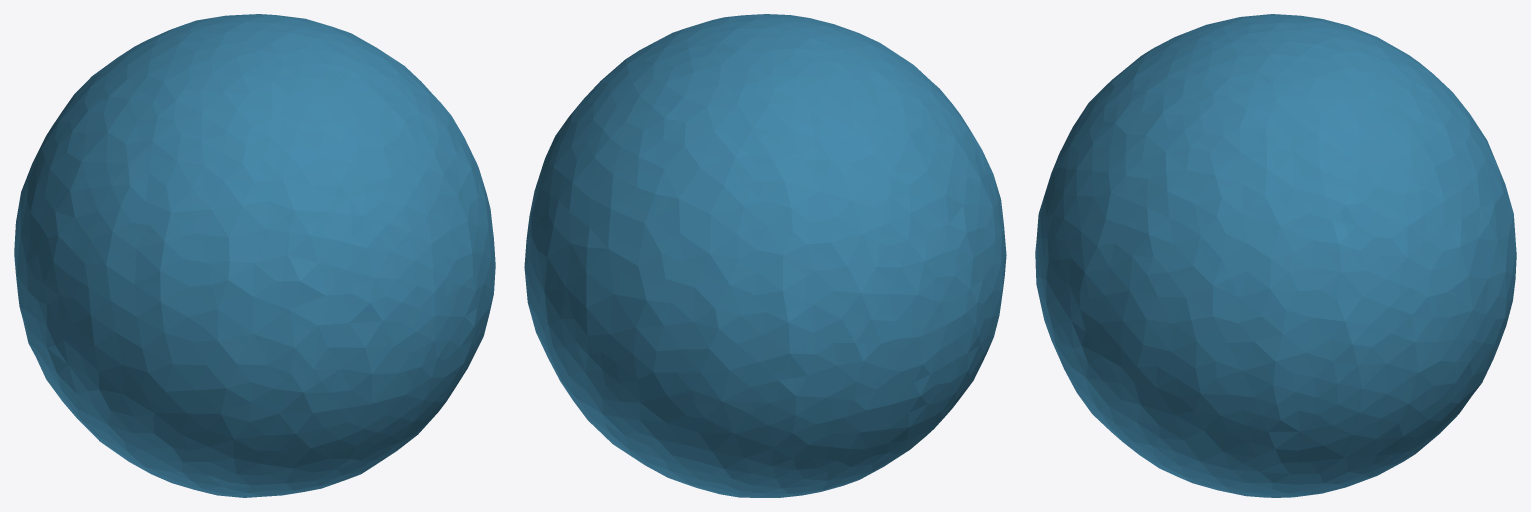
Rendered from planet-water.dae.
3 views of the same model, side by side, from view 1: azimuth 30°, elevation 25°; view 2: azimuth 150°, elevation 25°; view 3: azimuth 270°, elevation 25° (orthographic).
Visible parts, largest first — view 1: planet_water; view 2: planet_water; view 3: planet_water.
Part boxes in pixels (<box>): planet_water: <box>14,14,495,497</box>; planet_water: <box>524,14,1006,497</box>; planet_water: <box>1035,14,1516,497</box>.
Size of the model in its own units: 0.3141 by 0.3121 by 0.3135.
